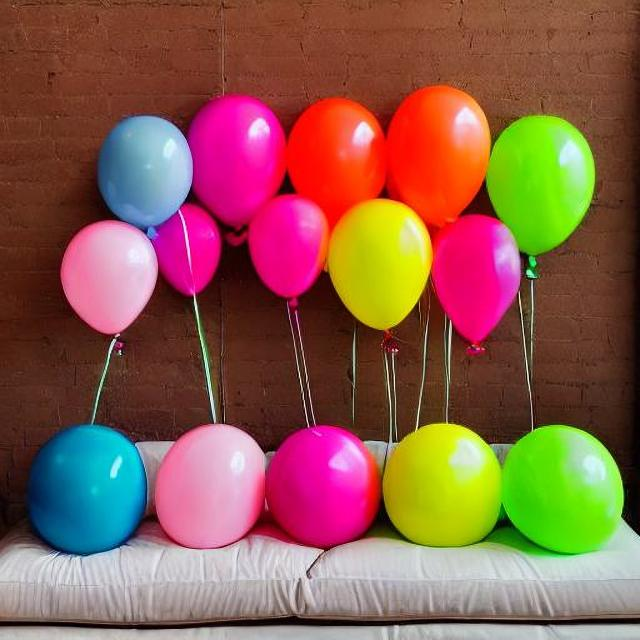balloon: (58, 96, 602, 336), (18, 415, 624, 570)
